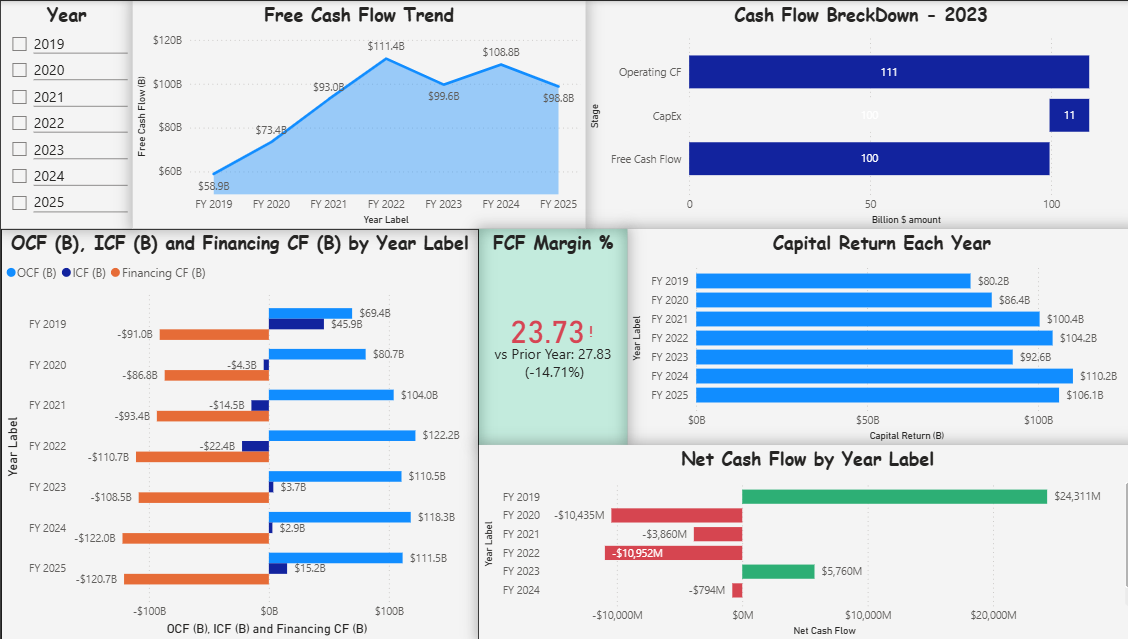

What the dashboard file says about the page in this screenshot:
{"tool":"powerbi","page":{"name":"Cash Flow Analysis","canvas":[1280,720],"ordinal":3},"visuals":[{"type":"clusteredBarChart","fields":{"Y":["_Measures.OCF (B)","_Measures.ICF (B)","_Measures.Financing CF (B)"],"Category":["Dim_Date.Year Label"]},"box":[0,256.8,538.6,463.7],"z":0},{"type":"slicer","title":"Year","fields":{"Values":["Dim_Date.Year"]},"box":[0,0,148.2,256.8],"z":1000},{"type":"barChart","fields":{"Category":["CF_Waterfall_Stages.Stage"],"Y":["CF_Waterfall_Stages.CF WaterFall Base","CF_Waterfall_Stages.CF WaterFall BAR"]},"box":[658.9,0,620.7,256.8],"z":2000},{"type":"areaChart","title":"Free Cash Flow  Trend","fields":{"Category":["Dim_Date.Year Label"],"Y":["_Measures.Free Cash Flow (B)"]},"box":[148.2,0,510.7,256.8],"z":3000},{"type":"barChart","title":"Capital Return Each Year","fields":{"Category":["Dim_Date.Year Label"],"Y":["_Measures.Capital Return Display"]},"box":[705.8,256.8,573.8,243.6],"z":4000},{"type":"kpi","title":"FCF Margin % ","fields":{"TrendLine":["Dim_Date.Year"],"Indicator":["_Measures.FCF Margin %"],"Goal":["_Measures.FCF Margin PY%"]},"box":[538.6,256.8,167.3,243.6],"z":5000},{"type":"barChart","fields":{"Y":["_Measures.Net Cash Flow"],"Category":["Dim_Date.Year Label"]},"box":[538.6,500.4,741.1,220.1],"z":6000}]}

Visuals, with their boxes in screenshot pixels (x1, y1, x2, y2), scaled from the page's 1280x720 canvas onto the 1128x639 screenshot:
clusteredBarChart - _Measures.OCF (B) x _Measures.ICF (B): {"left": 0, "top": 228, "right": 475, "bottom": 638}
"Year" slicer: {"left": 0, "top": 0, "right": 131, "bottom": 228}
barChart - CF_Waterfall_Stages.Stage x CF_Waterfall_Stages.CF WaterFall Base: {"left": 581, "top": 0, "right": 1127, "bottom": 228}
"Free Cash Flow  Trend" areaChart: {"left": 131, "top": 0, "right": 581, "bottom": 228}
"Capital Return Each Year" barChart: {"left": 622, "top": 228, "right": 1127, "bottom": 444}
"FCF Margin % " kpi: {"left": 475, "top": 228, "right": 622, "bottom": 444}
barChart - _Measures.Net Cash Flow x Dim_Date.Year Label: {"left": 475, "top": 444, "right": 1127, "bottom": 638}
